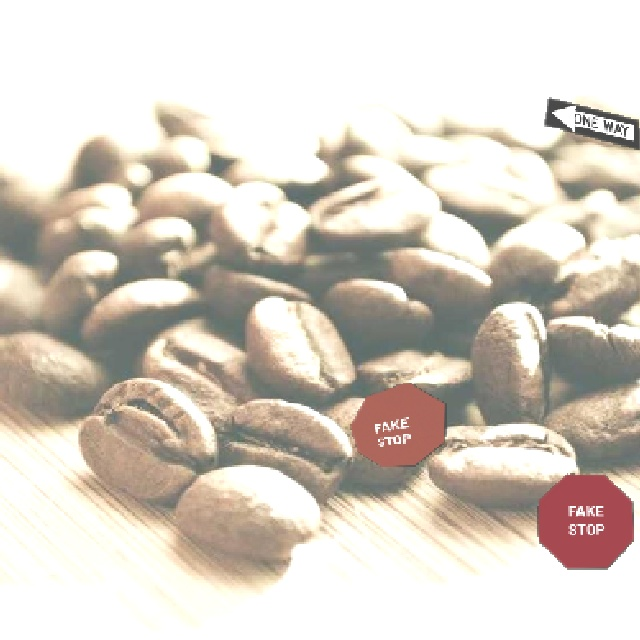FAKE_STOP: (536, 472, 633, 568), (348, 380, 445, 466)
ONE_WAY_ left: (542, 95, 639, 149)
